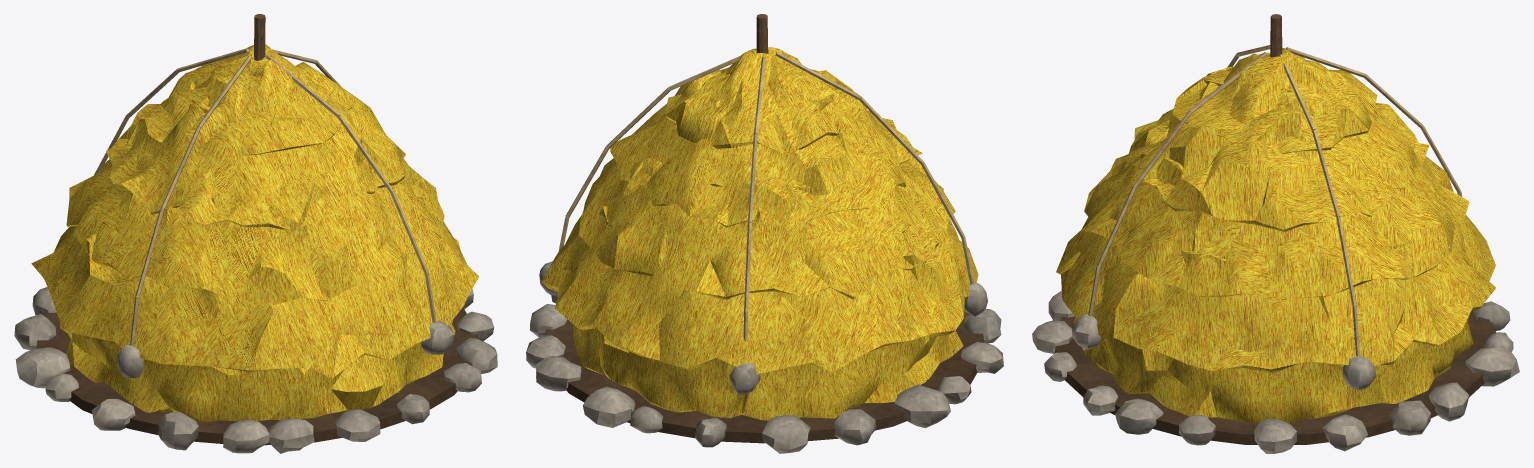
Rendered from country_haystack.glb.
3 renders of one model, left to right at view 1: azimuth 30°, elevation 25°; view 2: azimuth 150°, elevation 25°; view 3: azimuth 270°, elevation 25°, orthographic.
Parts seen in each view (by area): view 1: hay.005, rock.024, earth, rope, wood_dark; view 2: hay.005, rock.024, earth, rope; view 3: hay.005, rock.024, earth, rope, wood_dark.
Boxes of the visible parts, bbox=[...] form: hay.005: bbox=[31, 44, 479, 422]; rock.024: bbox=[14, 287, 497, 453]; earth: bbox=[36, 307, 477, 445]; rope: bbox=[94, 47, 436, 346]; wood_dark: bbox=[254, 14, 265, 60]; hay.005: bbox=[542, 47, 978, 420]; rock.024: bbox=[526, 261, 1003, 453]; earth: bbox=[545, 312, 984, 443]; rope: bbox=[558, 50, 973, 341]; hay.005: bbox=[1056, 48, 1495, 423]; rock.024: bbox=[1032, 291, 1519, 453]; earth: bbox=[1054, 310, 1496, 444]; rope: bbox=[1088, 45, 1462, 356]; wood_dark: bbox=[1270, 14, 1282, 57].
Size of the model in its own units: 4.32 by 3.34 by 4.27.
Materials: 5 (5 with a texture image).
